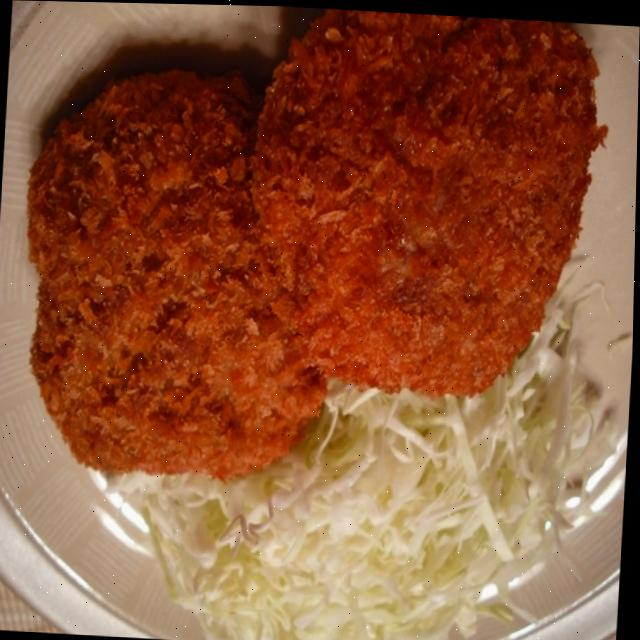炸货点心: (0, 2, 633, 635)
